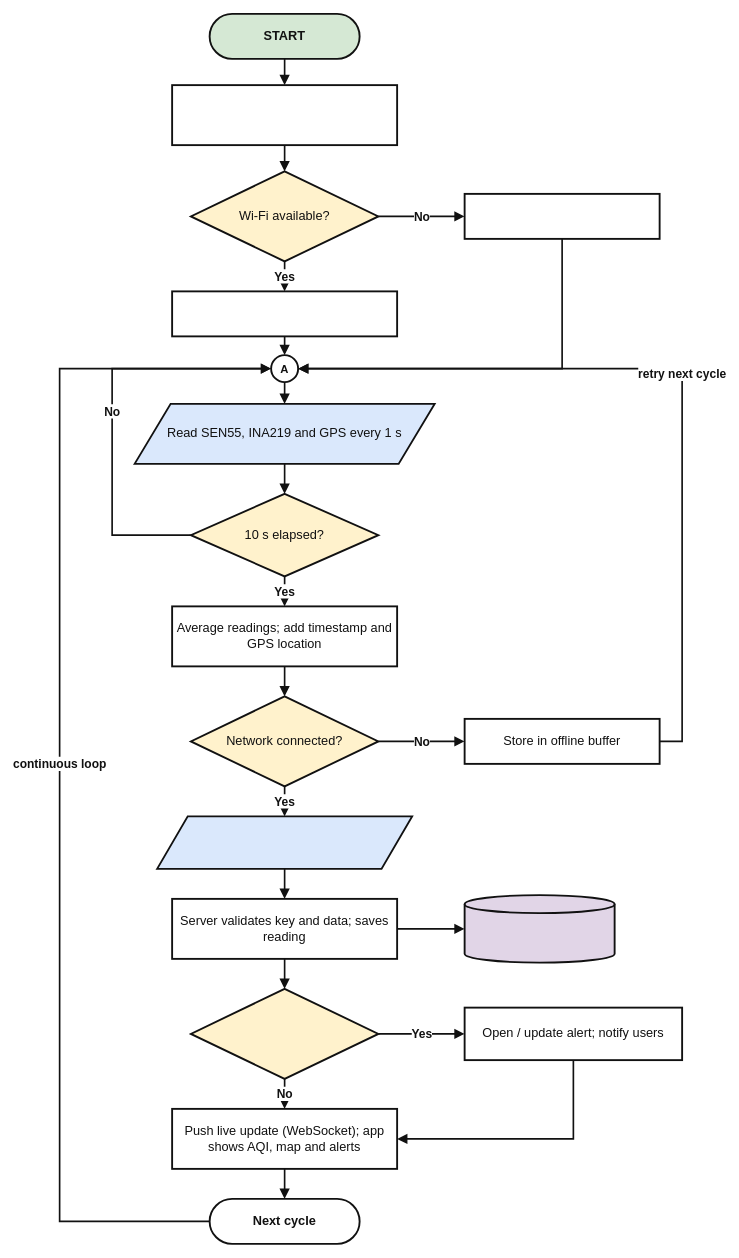
The diagram is 739 pixels wide and 1258 high, and some of its shapes have lost their labels. Here are the shapes that lost their labels. From the top down, the centre of each, then its label:
At point (284, 115): "Power on from battery; initialize ESP32, SEN55, INA219 and modem".
At point (561, 216): "Connect via 4G LTE".
At point (284, 313): "Connect via Wi-Fi".
At point (284, 842): "HTTPS POST to /api/v1/ingest".
At point (539, 928): "PostgreSQL".
At point (284, 1033): "Above alert threshold?".
